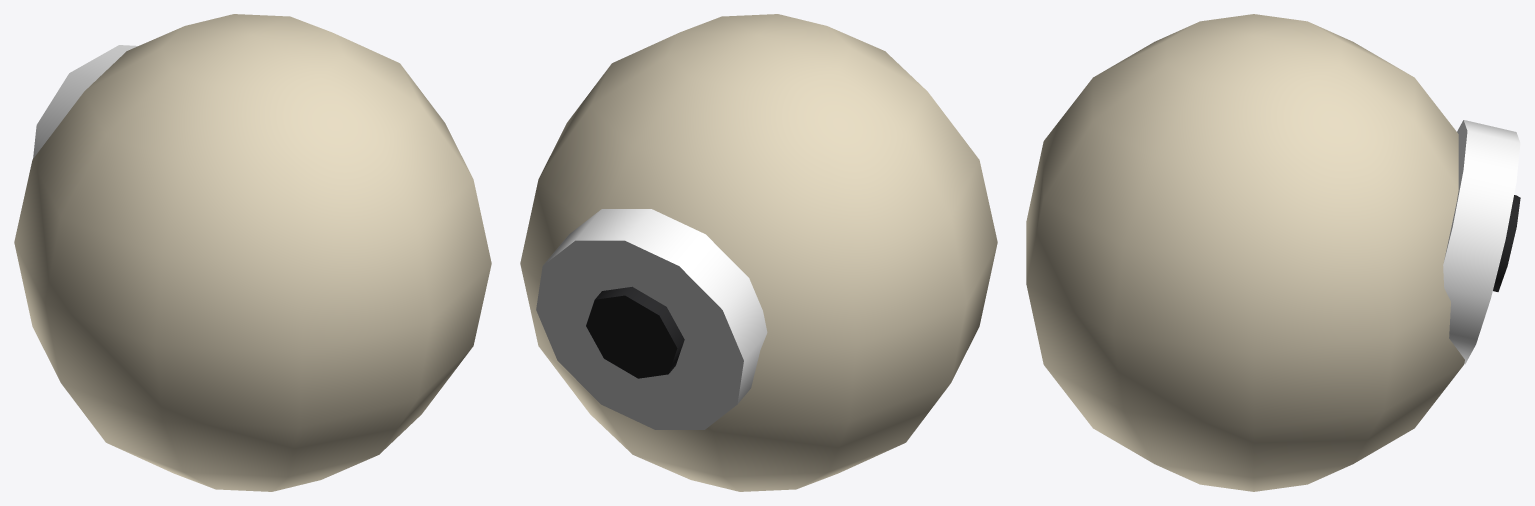
File: EYEBALL.glb
3 renders of one model, left to right at view 1: azimuth 30°, elevation 25°; view 2: azimuth 150°, elevation 25°; view 3: azimuth 270°, elevation 25°, orthographic.
Visible parts, largest first — view 1: bone_0, slime_1; view 2: bone_0, slime_1, tread_2; view 3: bone_0, slime_1, tread_2.
Part boxes in pixels (x1,y1,x2,y2): bone_0: (14,14,491,491); slime_1: (33,45,137,158); bone_0: (520,14,997,491); slime_1: (536,209,767,429); tread_2: (586,286,684,378); bone_0: (1026,14,1464,491); slime_1: (1443,120,1520,364); tread_2: (1493,195,1520,291).
Size of the model in its own units: 0.035 by 0.035 by 0.0362.
